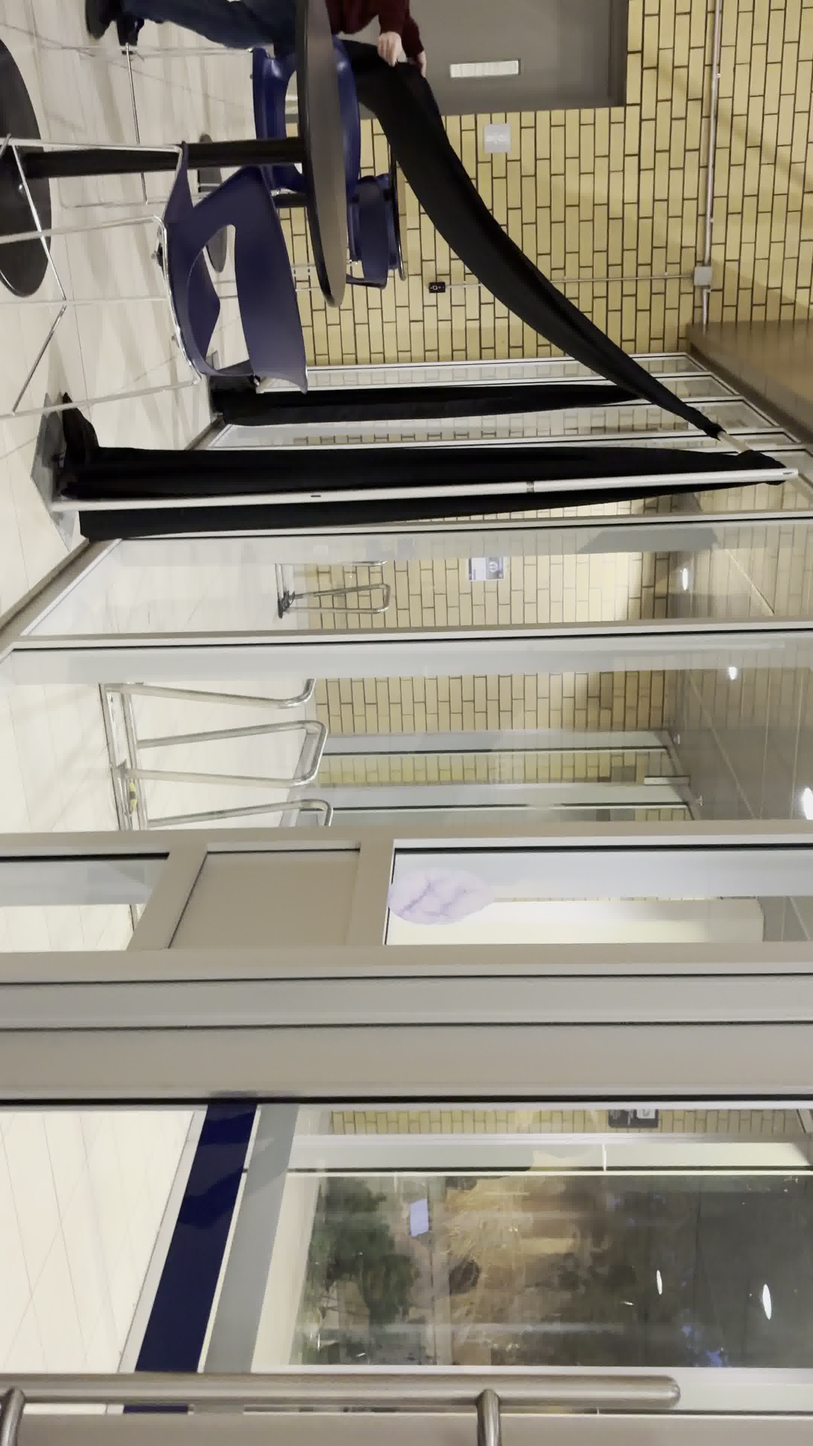Target: (385, 864, 497, 928)
